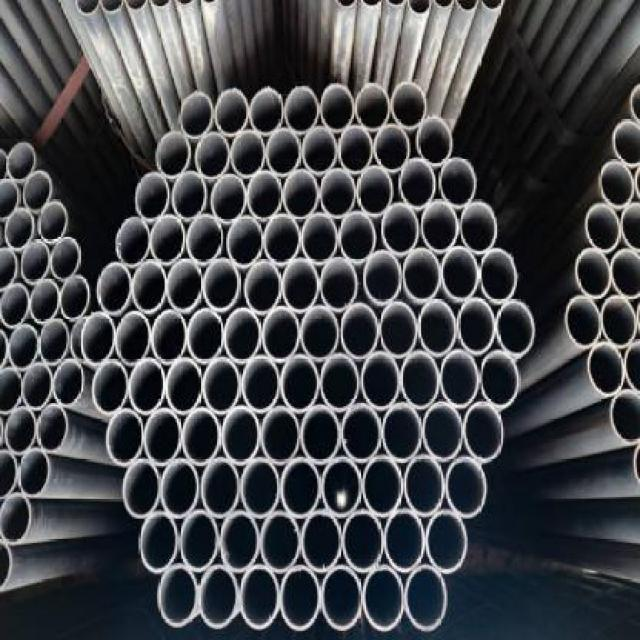pipe: (363, 565, 405, 631), (278, 565, 320, 631), (405, 565, 447, 631), (238, 563, 280, 629), (320, 566, 362, 631), (157, 562, 199, 627), (426, 509, 468, 574), (383, 508, 425, 573), (445, 455, 488, 517), (342, 510, 384, 573), (258, 511, 300, 573), (218, 511, 260, 573), (280, 457, 322, 519), (362, 455, 404, 517), (463, 402, 505, 462), (199, 565, 239, 628), (322, 457, 364, 517), (300, 511, 340, 573), (139, 511, 179, 573), (405, 454, 445, 516), (340, 403, 382, 462), (180, 510, 219, 573), (222, 405, 261, 467), (160, 457, 199, 519), (382, 402, 422, 462), (423, 400, 463, 460), (240, 457, 280, 517), (200, 457, 240, 517), (400, 351, 440, 410), (122, 459, 161, 519), (300, 405, 340, 463), (319, 354, 359, 411), (442, 348, 480, 408), (143, 408, 182, 466), (262, 407, 301, 465), (202, 356, 241, 414), (280, 354, 319, 412), (362, 351, 400, 410), (182, 408, 221, 465), (242, 356, 281, 413), (480, 351, 519, 408), (378, 302, 417, 359), (418, 300, 457, 357), (262, 306, 301, 362), (302, 305, 341, 361), (457, 297, 495, 354), (496, 300, 536, 354), (479, 249, 519, 303), (403, 248, 442, 303), (340, 303, 378, 359), (320, 257, 358, 313), (165, 357, 202, 414), (225, 306, 262, 363), (586, 342, 625, 396), (565, 294, 604, 348), (363, 249, 402, 303), (282, 257, 319, 313), (442, 245, 479, 301), (338, 211, 377, 264), (106, 408, 143, 463), (188, 308, 225, 363), (380, 201, 418, 254), (420, 200, 458, 253), (93, 360, 130, 414), (114, 311, 151, 365), (600, 296, 637, 350), (151, 310, 187, 365), (245, 261, 282, 314), (203, 258, 240, 311), (576, 246, 613, 299), (302, 211, 339, 264), (438, 159, 477, 208), (81, 311, 117, 364), (97, 261, 133, 314), (130, 359, 165, 413), (460, 202, 497, 253), (319, 168, 356, 219), (399, 157, 436, 208), (168, 258, 203, 311), (228, 215, 263, 268), (283, 168, 319, 219), (186, 214, 223, 263), (263, 214, 300, 263), (209, 174, 246, 223), (374, 123, 411, 172), (132, 260, 166, 313), (357, 165, 392, 216), (417, 117, 454, 165), (609, 388, 640, 445), (586, 203, 622, 252), (172, 171, 208, 220), (17, 446, 51, 497), (116, 216, 150, 267), (151, 212, 185, 263), (598, 160, 634, 208), (301, 125, 337, 173), (338, 125, 374, 173), (249, 86, 285, 134), (392, 82, 428, 130), (194, 131, 229, 179), (248, 173, 282, 222), (0, 493, 32, 545), (136, 171, 170, 219), (266, 128, 300, 176), (214, 88, 248, 136), (320, 83, 354, 131), (52, 359, 85, 408), (356, 83, 391, 129), (157, 131, 191, 177), (231, 130, 265, 176), (180, 93, 214, 139), (285, 86, 319, 132), (611, 248, 640, 301), (37, 403, 68, 451), (23, 363, 54, 411), (0, 282, 31, 330), (5, 408, 36, 454), (9, 323, 40, 369), (29, 279, 60, 324), (60, 275, 91, 320), (612, 119, 640, 167), (20, 240, 51, 283), (49, 237, 80, 280), (40, 319, 69, 364), (37, 202, 68, 244), (23, 169, 52, 211), (5, 208, 34, 249), (7, 142, 36, 182), (0, 368, 22, 414), (620, 202, 639, 250), (0, 177, 20, 222), (0, 449, 17, 500), (624, 339, 640, 393), (0, 247, 18, 291)
